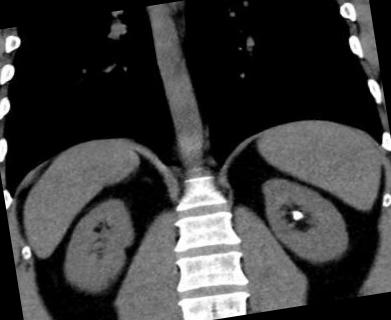Tas_Var: (290, 207, 308, 224)
